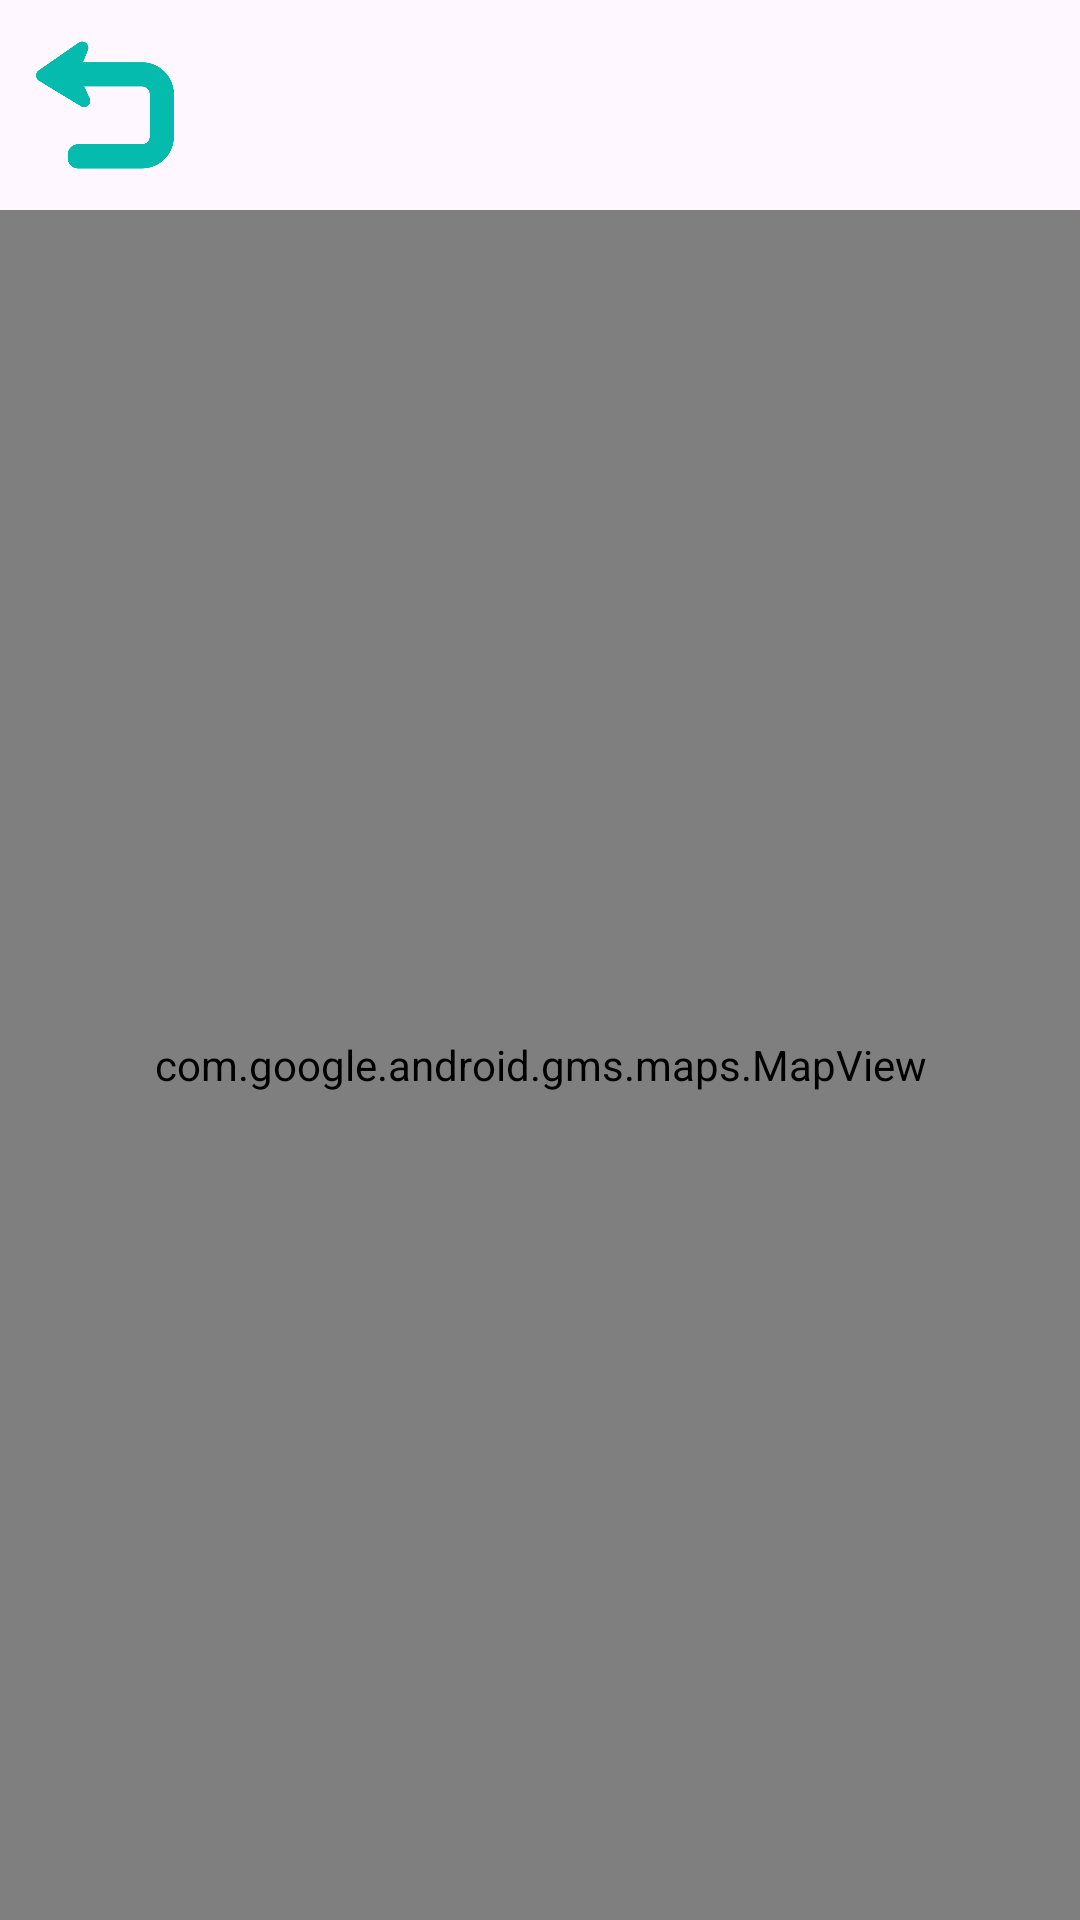

Named icons in this screenshot (1080px x 1920px) and their bounding boxes, (x1, y1, x2, y2):
return: (36, 41, 174, 169)
